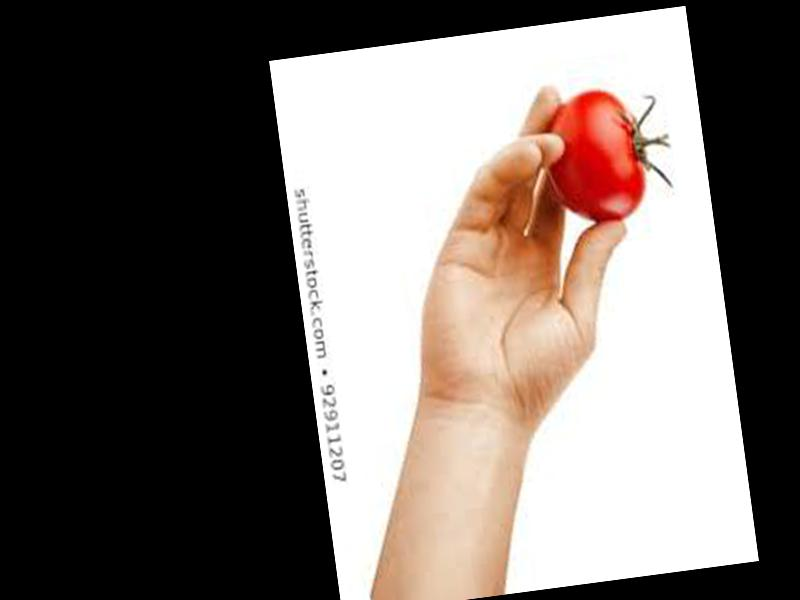Tomato: (537, 84, 651, 229)
